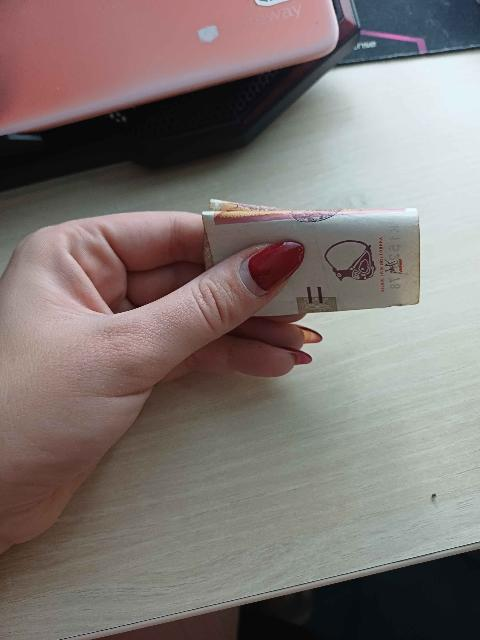1000_note: (205, 197, 431, 321)
